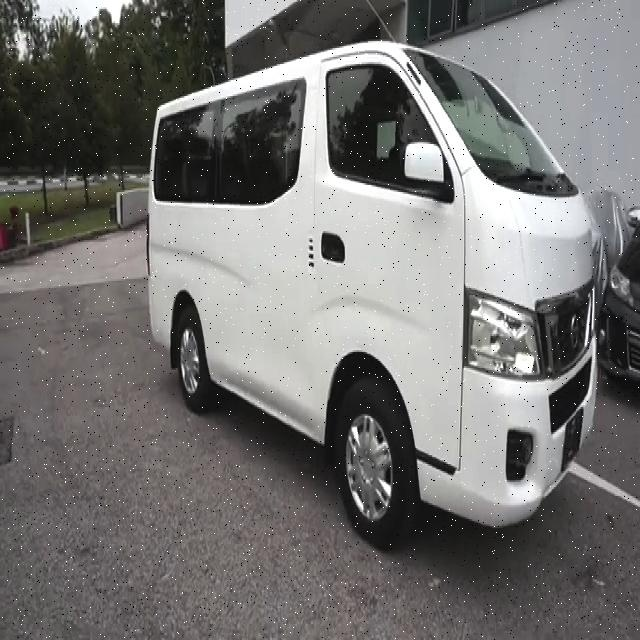Van: (146, 37, 607, 544)
